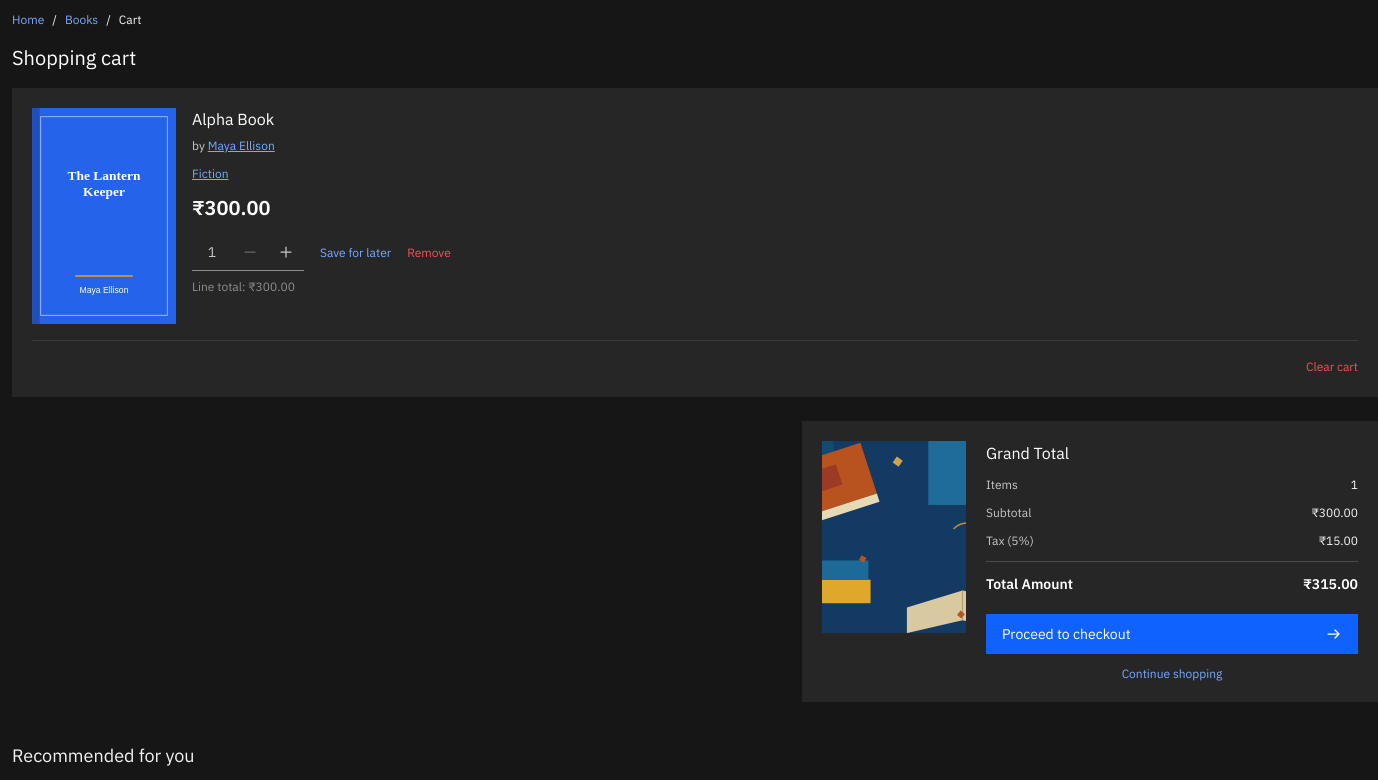
Scenario: CartPage › removes an item and shows the empty state
Click the button with aria-label "Remove Alpha Book" at (429, 252), box top-left (407, 244), bottom-right (451, 260)
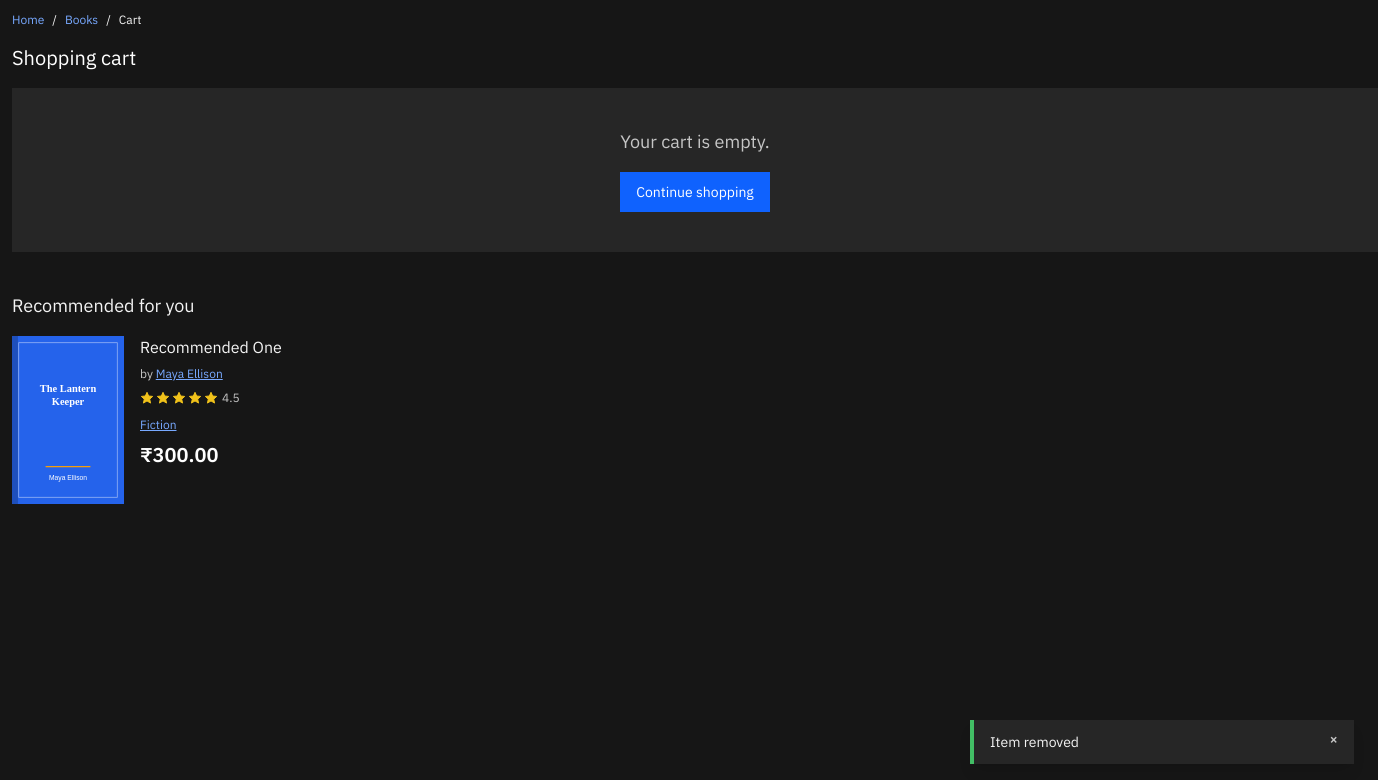
Now the text "Your cart is empty." is shown, box top-left (620, 130), bottom-right (770, 153)
